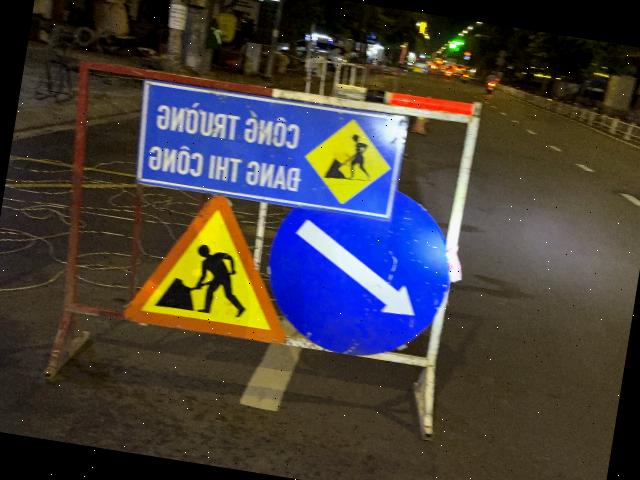cong-truong-dang-thi-cong: (122, 181, 306, 345)
huong-phai-di-vong-chuong-ngai-vat: (256, 174, 462, 370)
